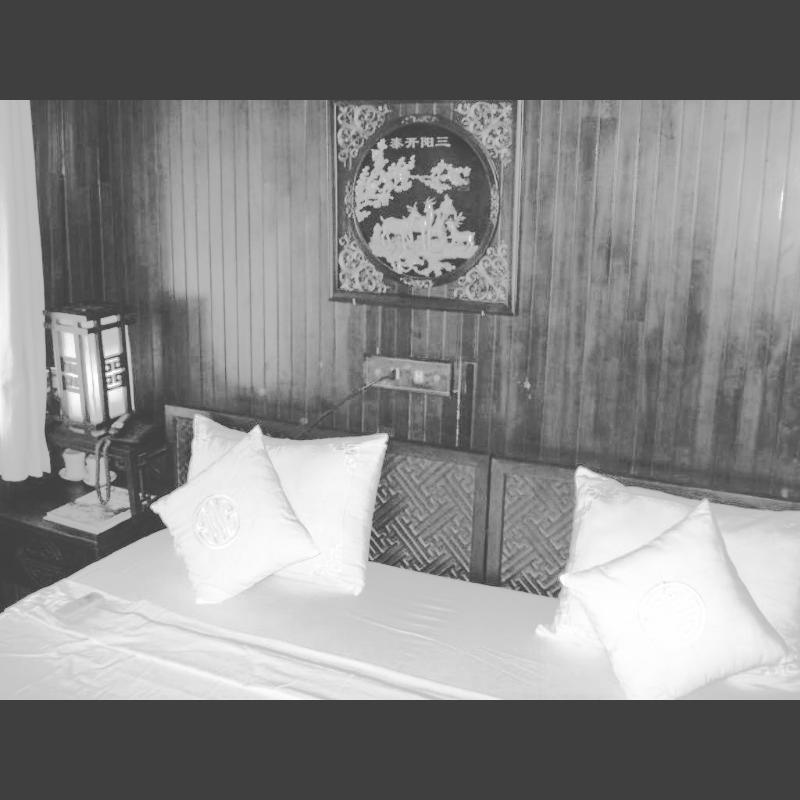pillow: (532, 465, 798, 682), (182, 410, 389, 600), (143, 428, 321, 604)
